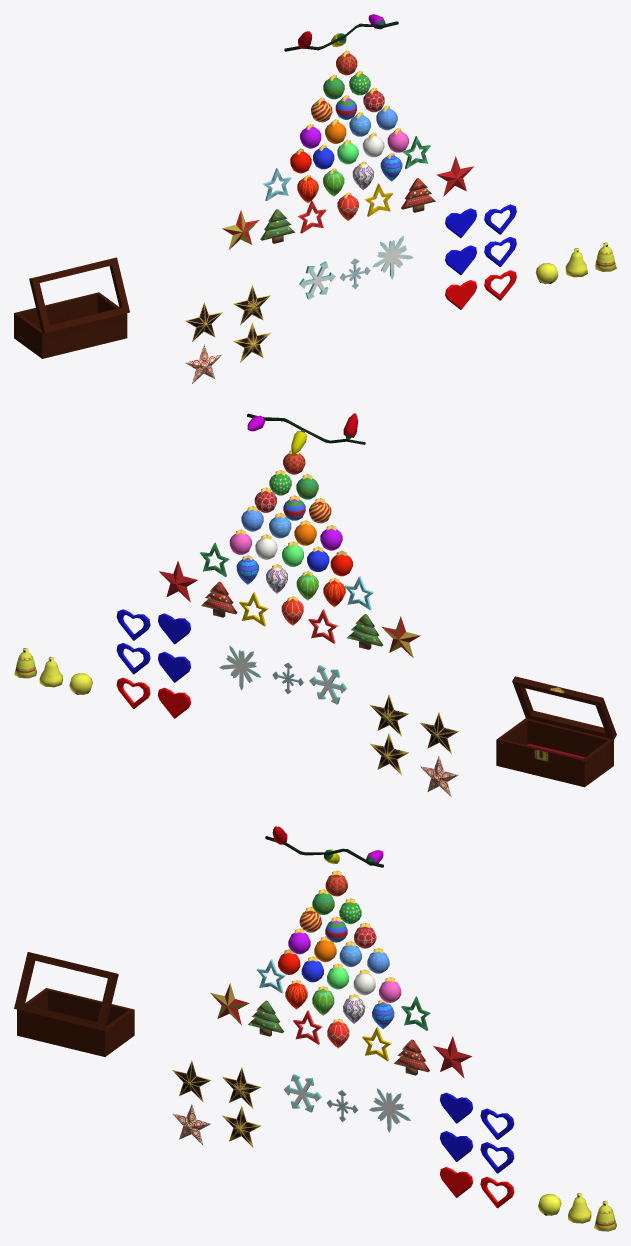
File: Ornaments.fbx
3 renders of one model, top to bottom at view 1: azimuth 30°, elevation 25°; view 2: azimuth 150°, elevation 25°; view 3: azimuth 330°, elevation 25°, orthographic. The views are drawn at different scales.
Parts seen in each view (by area): view 1: Box, Lights, Snowflake 3, Ornament Tree 1, Ornament Tree 2, Snowflake 1, Heart 1, Heart 3, Heart 2, Star 5, Star 4, Star 6 (+3 smaller); view 2: Box, Lights, Snowflake 3, Ornament Tree 2, Ornament Tree 1, Snowflake 1, Heart 1, Heart 2, Heart 3, Star 6, Star 3, Star 5 (+3 smaller); view 3: Box, Lights, Snowflake 3, Ornament Tree 2, Ornament Tree 1, Snowflake 1, Heart 3, Heart 1, Heart 2, Star 4, Star 2, Star 1 (+3 smaller).
Boxes of the visible parts, x1,y1,x2,y2 form: Box: [14, 257, 129, 358]; Lights: [284, 14, 398, 51]; Snowflake 3: [372, 235, 413, 279]; Ornament Tree 1: [260, 209, 295, 243]; Ornament Tree 2: [401, 178, 435, 212]; Snowflake 1: [299, 261, 335, 299]; Heart 1: [445, 280, 476, 309]; Heart 3: [445, 208, 476, 238]; Heart 2: [445, 245, 476, 275]; Star 5: [233, 285, 270, 325]; Star 4: [233, 322, 270, 362]; Star 6: [436, 156, 473, 196]; Box: [496, 676, 616, 787]; Lights: [247, 413, 365, 454]; Snowflake 3: [219, 645, 261, 690]; Ornament Tree 2: [201, 581, 237, 617]; Ornament Tree 1: [347, 614, 382, 649]; Snowflake 1: [309, 665, 347, 704]; Heart 1: [158, 687, 190, 718]; Heart 2: [158, 651, 190, 682]; Heart 3: [158, 613, 190, 644]; Star 6: [159, 561, 197, 602]; Star 3: [419, 712, 458, 753]; Star 5: [370, 694, 408, 736]; Box: [14, 952, 134, 1056]; Lights: [265, 826, 383, 867]; Snowflake 3: [369, 1087, 411, 1132]; Ornament Tree 2: [393, 1039, 429, 1075]; Ornament Tree 1: [248, 1000, 283, 1036]; Snowflake 1: [284, 1074, 321, 1112]; Heart 3: [440, 1092, 472, 1123]; Heart 1: [440, 1167, 472, 1197]; Heart 2: [440, 1131, 472, 1161]; Star 4: [222, 1106, 261, 1147]; Star 2: [172, 1104, 211, 1145]; Star 1: [210, 983, 249, 1025].
Size of the model in its own units: 28.46 by 15.92 by 3.21.
